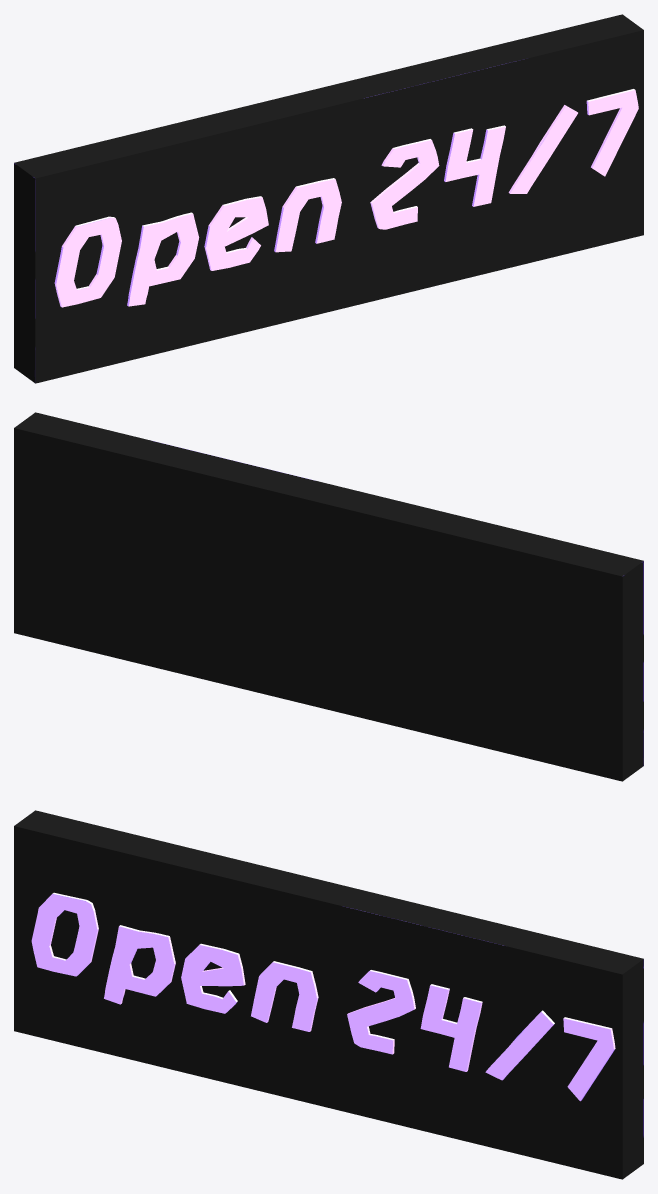
Rendered from Open24_7.fbx.
The picture shows the model from 3 angles, top to bottom: view 1: azimuth 30°, elevation 25°; view 2: azimuth 150°, elevation 25°; view 3: azimuth 330°, elevation 25°; orthographic projection.
Parts seen in each view (by area): view 1: Open24/7; view 2: Open24/7; view 3: Open24/7.
Boxes of the visible parts, x1,y1,x2,y2 form: Open24/7: [14, 14, 643, 383]; Open24/7: [14, 412, 643, 781]; Open24/7: [14, 810, 643, 1179].
Bounding box in the file's own units: 3.2 × 0.2111 × 1.03.
